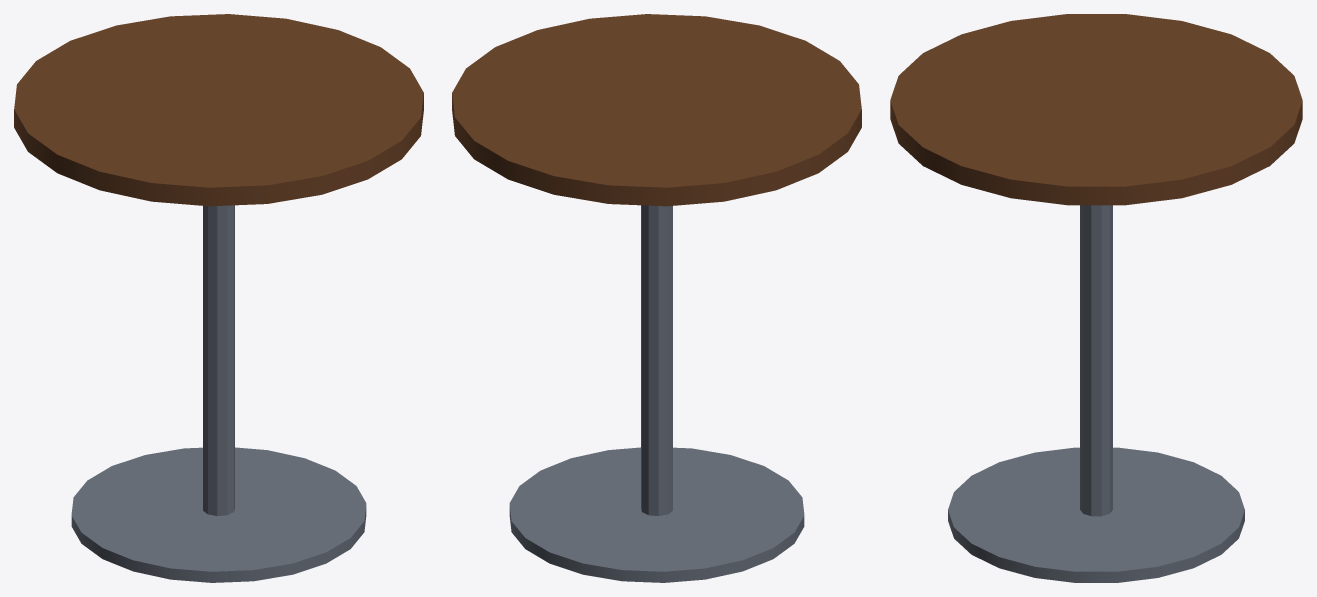
The model's file is furniture.table.side.glb.
The picture shows the model from 3 angles, left to right: view 1: azimuth 30°, elevation 25°; view 2: azimuth 150°, elevation 25°; view 3: azimuth 270°, elevation 25°; orthographic projection.
Visible parts, largest first — view 1: main__hardwood, main__steel_painted; view 2: main__hardwood, main__steel_painted; view 3: main__hardwood, main__steel_painted.
Boxes of the visible parts, x1,y1,x2,y2 form: main__hardwood: (14,14,423,206); main__steel_painted: (71,205,366,582); main__hardwood: (452,14,861,206); main__steel_painted: (509,205,804,582); main__hardwood: (890,14,1302,205); main__steel_painted: (948,205,1244,582).
Bounding box in the file's own units: 0.4949 × 0.5625 × 0.5.
